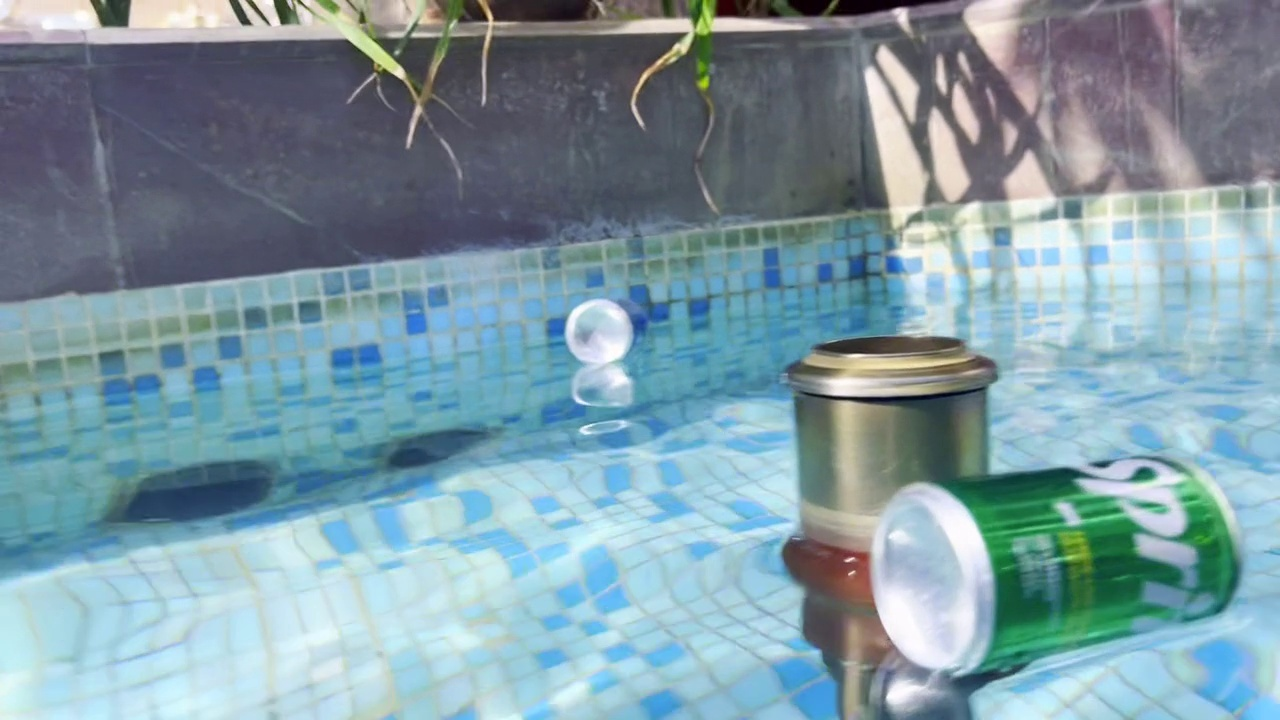debris: (862, 440, 1250, 684), (559, 284, 651, 373)
